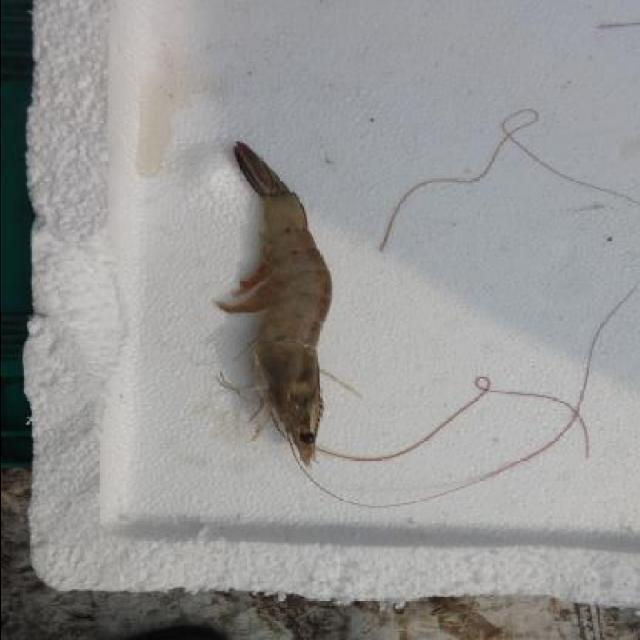shrimp: (214, 128, 344, 481)
